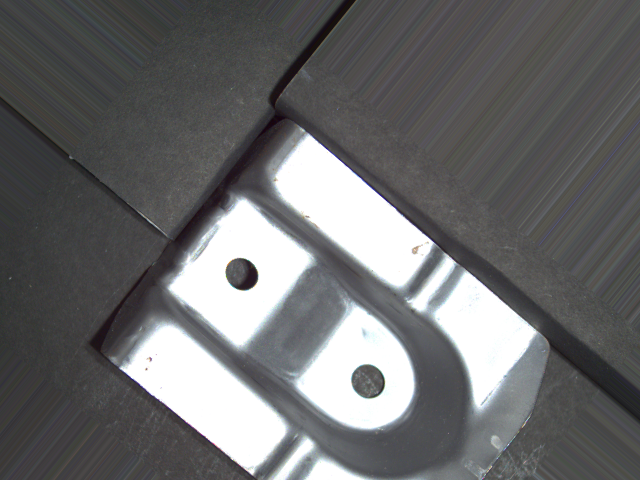defect: (349, 359, 389, 406)
